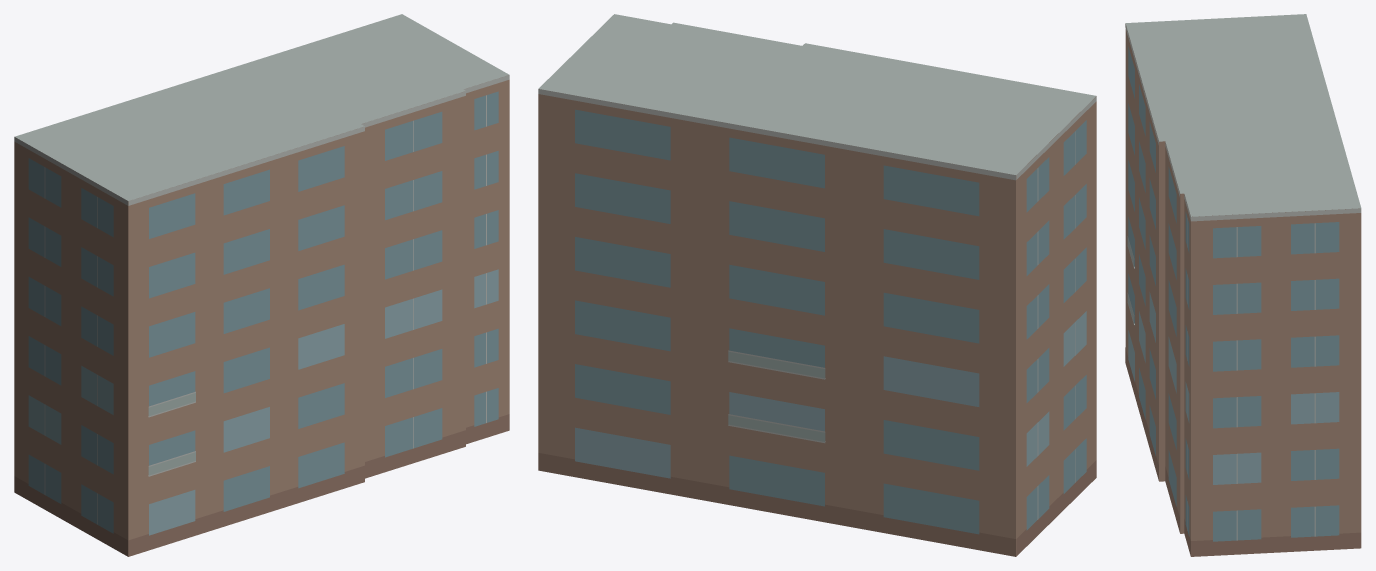
Rendered from survey-upis-32658964.glb.
The picture shows the model from 3 angles, left to right: view 1: azimuth 30°, elevation 25°; view 2: azimuth 150°, elevation 25°; view 3: azimuth 270°, elevation 25°; orthographic projection. The views are drawn at different scales.
Visible parts, largest first — view 1: survey-upis-32658964.tmp; view 2: survey-upis-32658964.tmp; view 3: survey-upis-32658964.tmp.
Boxes of the visible parts, <box> form: survey-upis-32658964.tmp: <box>14,14,509,556</box>; survey-upis-32658964.tmp: <box>538,14,1096,556</box>; survey-upis-32658964.tmp: <box>1125,14,1361,556</box>.
Bounding box in the file's own units: 23.1 × 18.05 × 11.36.
